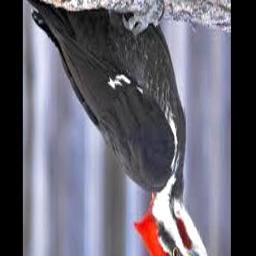Woodpecker: (25, 0, 224, 256)
